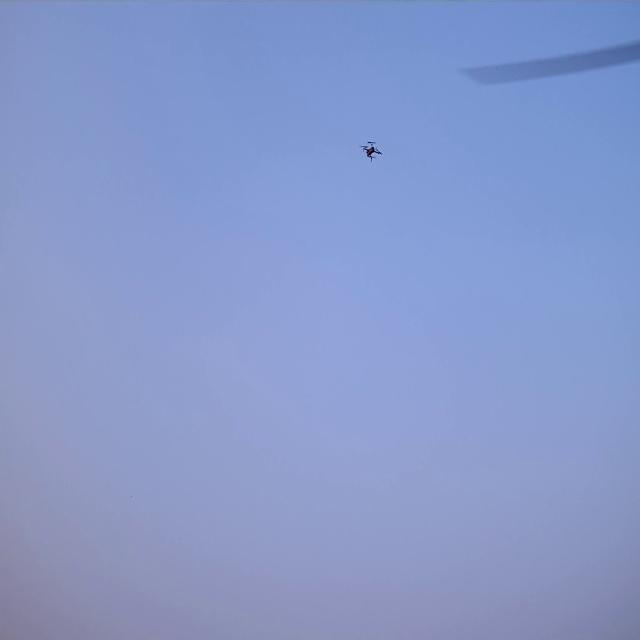UAV: (358, 137, 384, 164)
